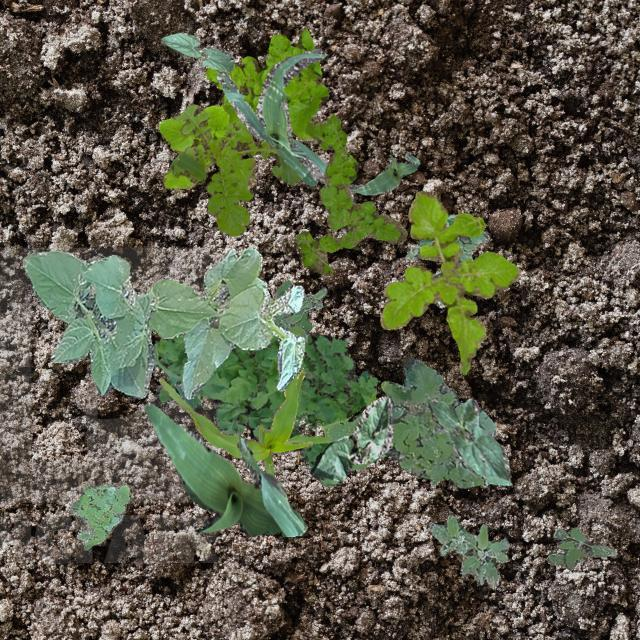crop: (22, 247, 304, 398), (144, 402, 306, 536), (158, 368, 312, 474), (216, 48, 326, 186), (426, 398, 511, 484), (309, 394, 392, 479), (346, 152, 418, 194), (160, 32, 233, 72)
weed: (152, 310, 376, 487), (158, 27, 328, 190), (378, 190, 520, 372), (326, 356, 494, 486), (296, 113, 406, 274), (170, 102, 300, 235), (404, 214, 488, 306), (428, 514, 508, 586), (68, 482, 130, 548), (272, 278, 326, 344), (546, 526, 616, 568)
